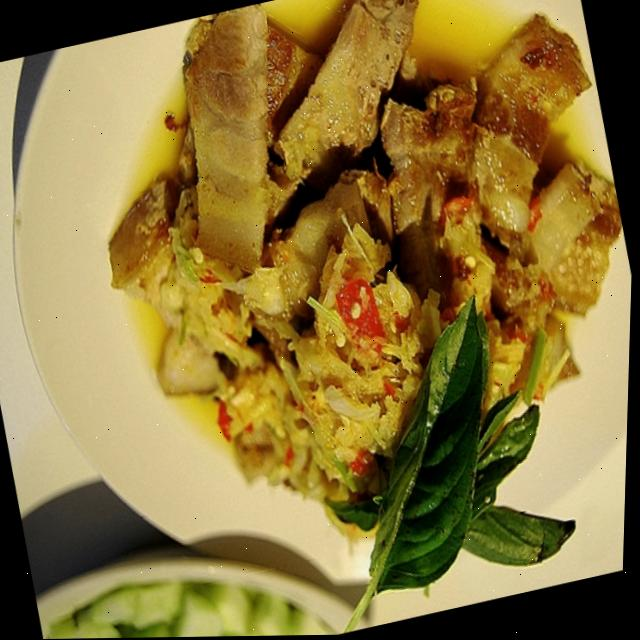猪肉菜式: (20, 0, 640, 636)
